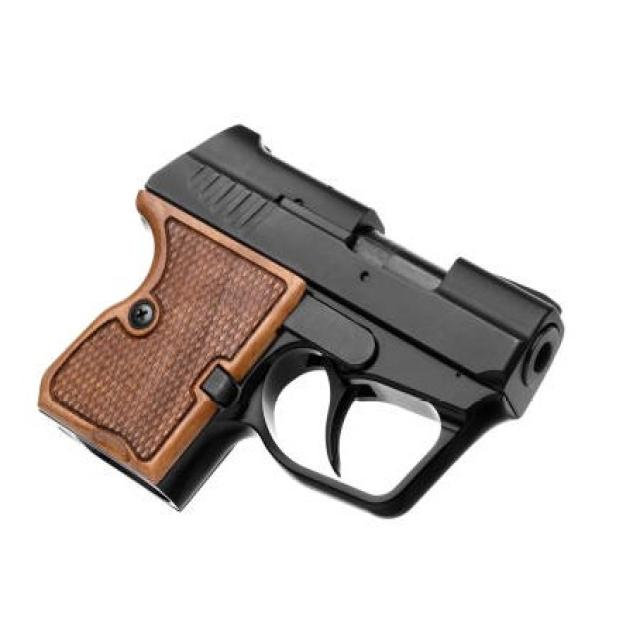pistol: (38, 121, 571, 538)
